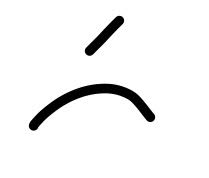i: (77, 8, 154, 68)
